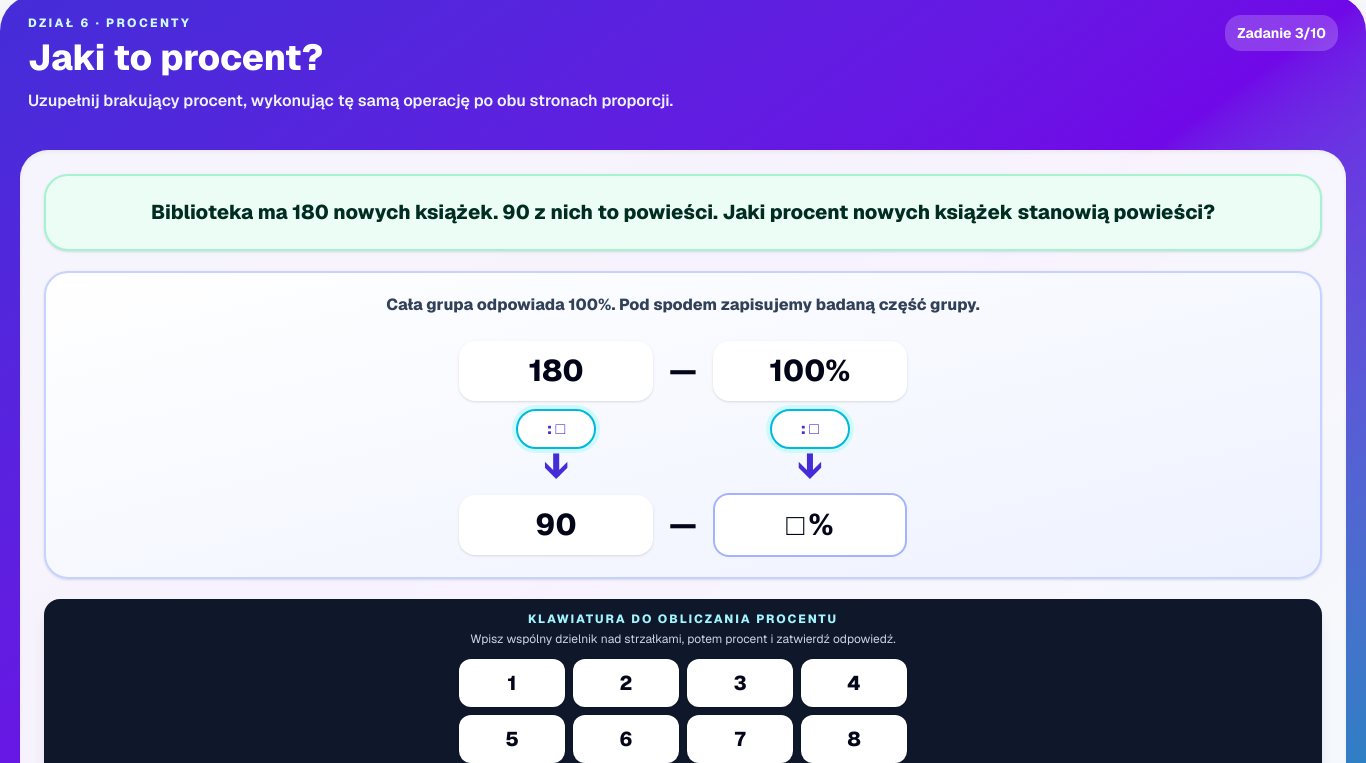
Jaki to procent? metodą proporcji › od trzeciego zadania pozostawia dzielnik nad strzałkami do samodzielnego wpisania
Expected: the text ": 2" is not shown
Expected: the number of buttons ": □" is 2, [516, 408, 596, 448]; [770, 408, 850, 448]
Click the button "2": (626, 682) [573, 658, 679, 706]
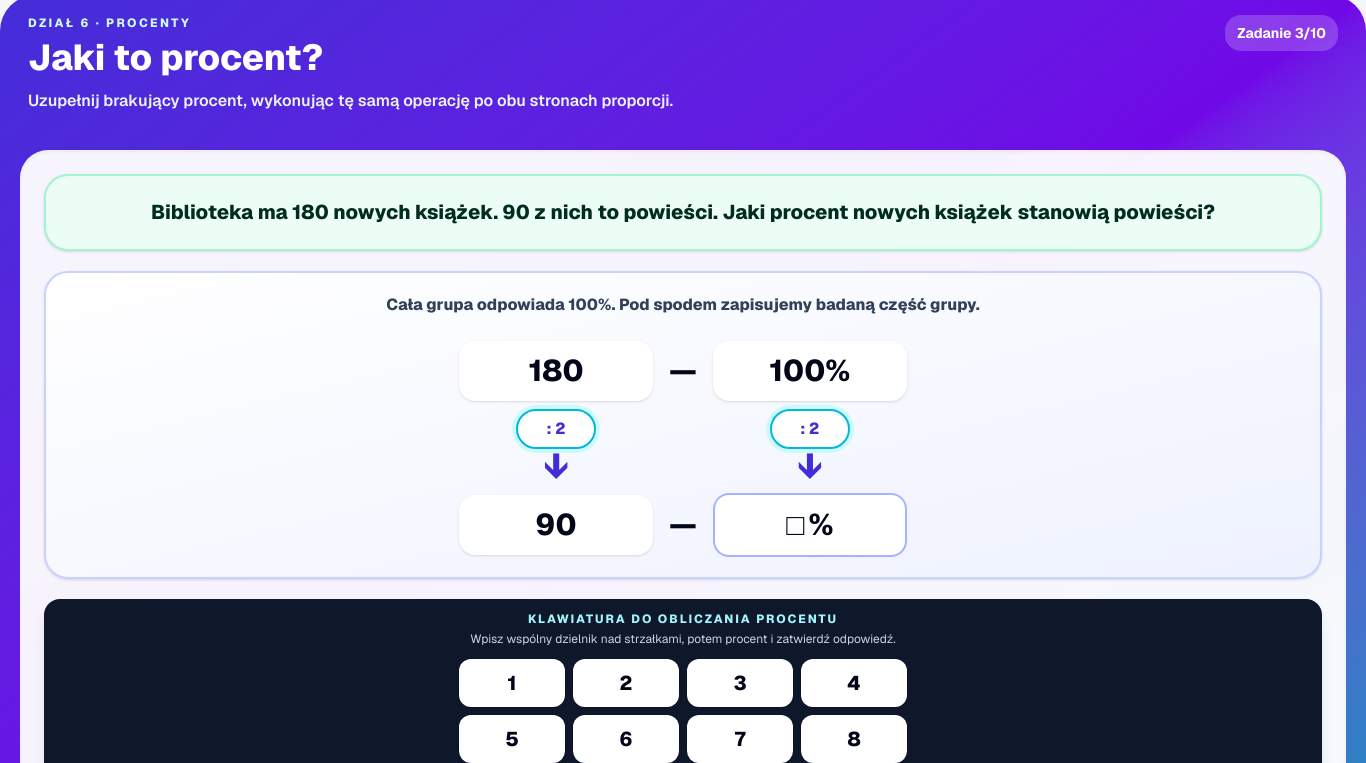
Expected: the number of buttons ": 2" is 2, [516, 408, 596, 448]; [770, 408, 850, 448]
Click the button named "Brakujący procent": (810, 524) [713, 492, 907, 556]
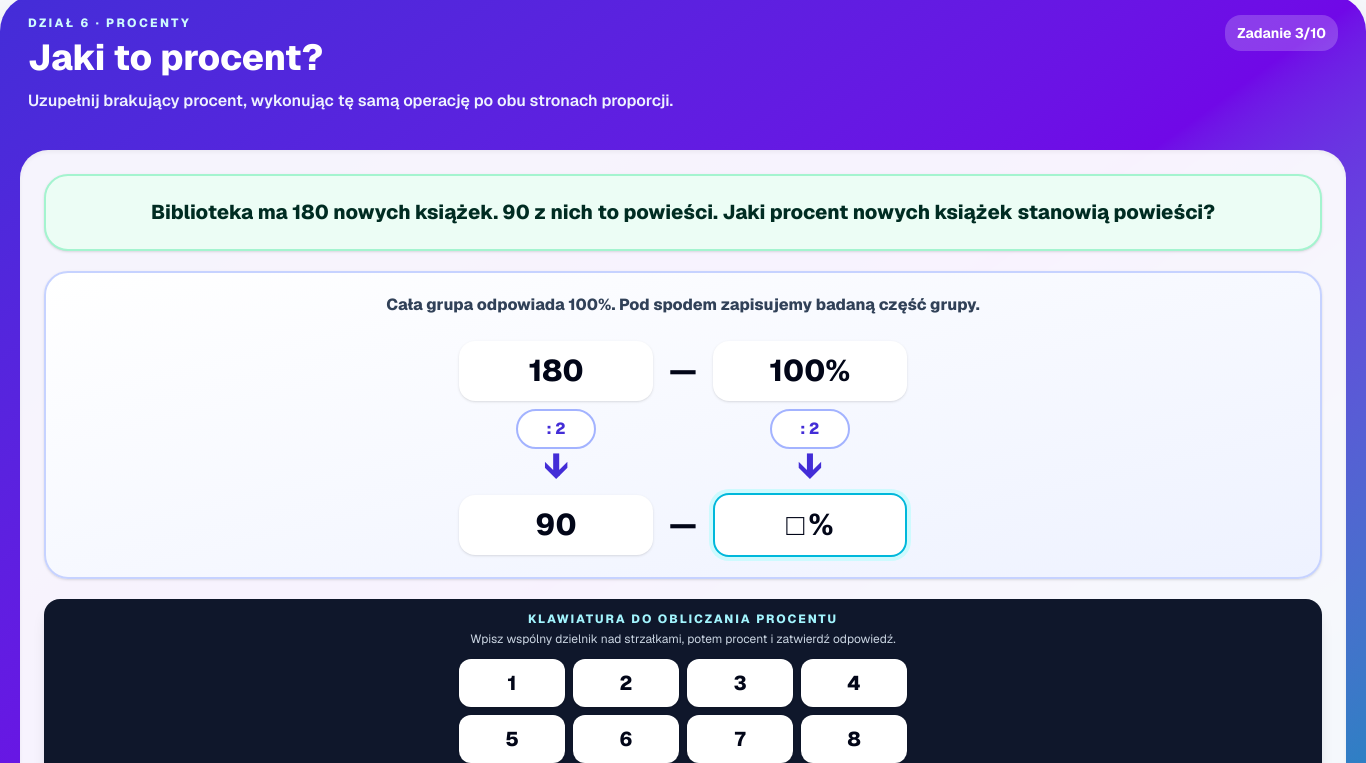
Click the button "5": (512, 738) [459, 714, 565, 762]
(page scrolled)
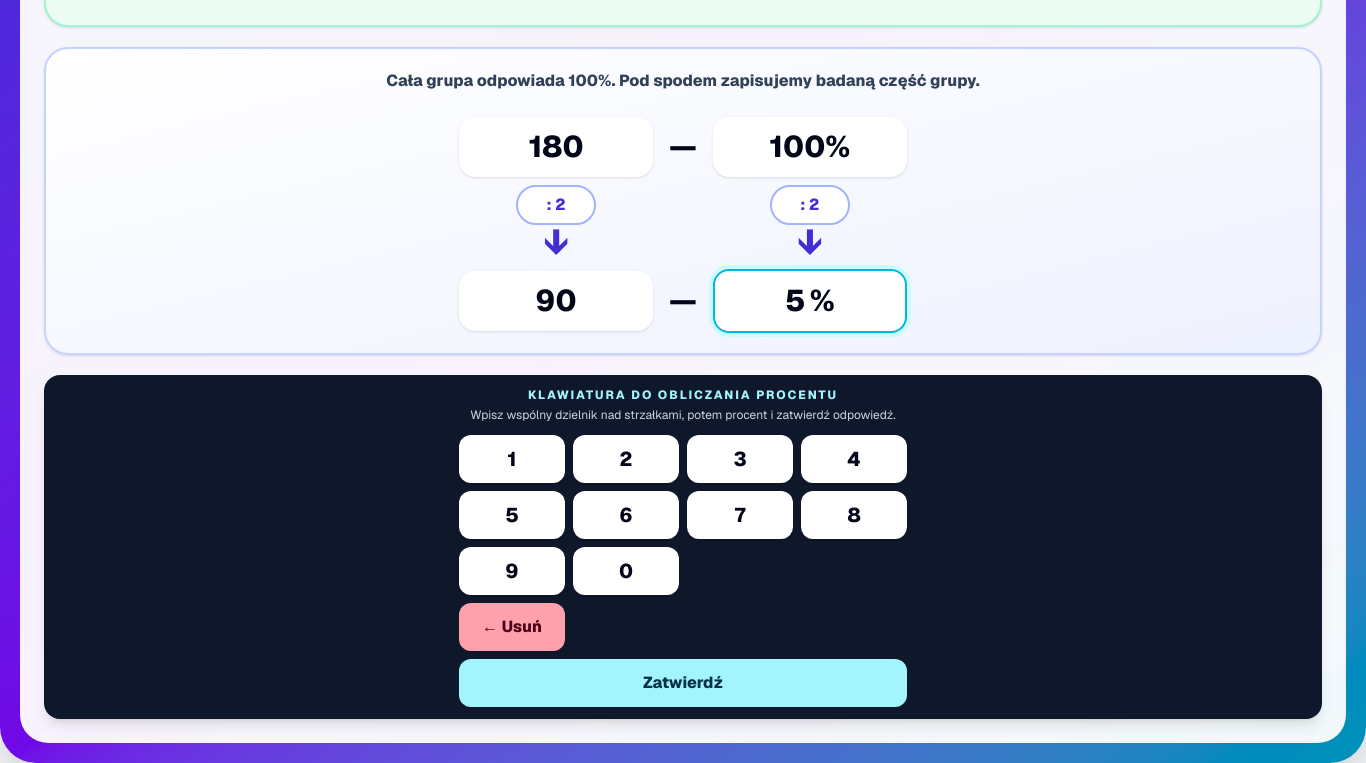
Click the button "0": (626, 570) [573, 546, 679, 594]
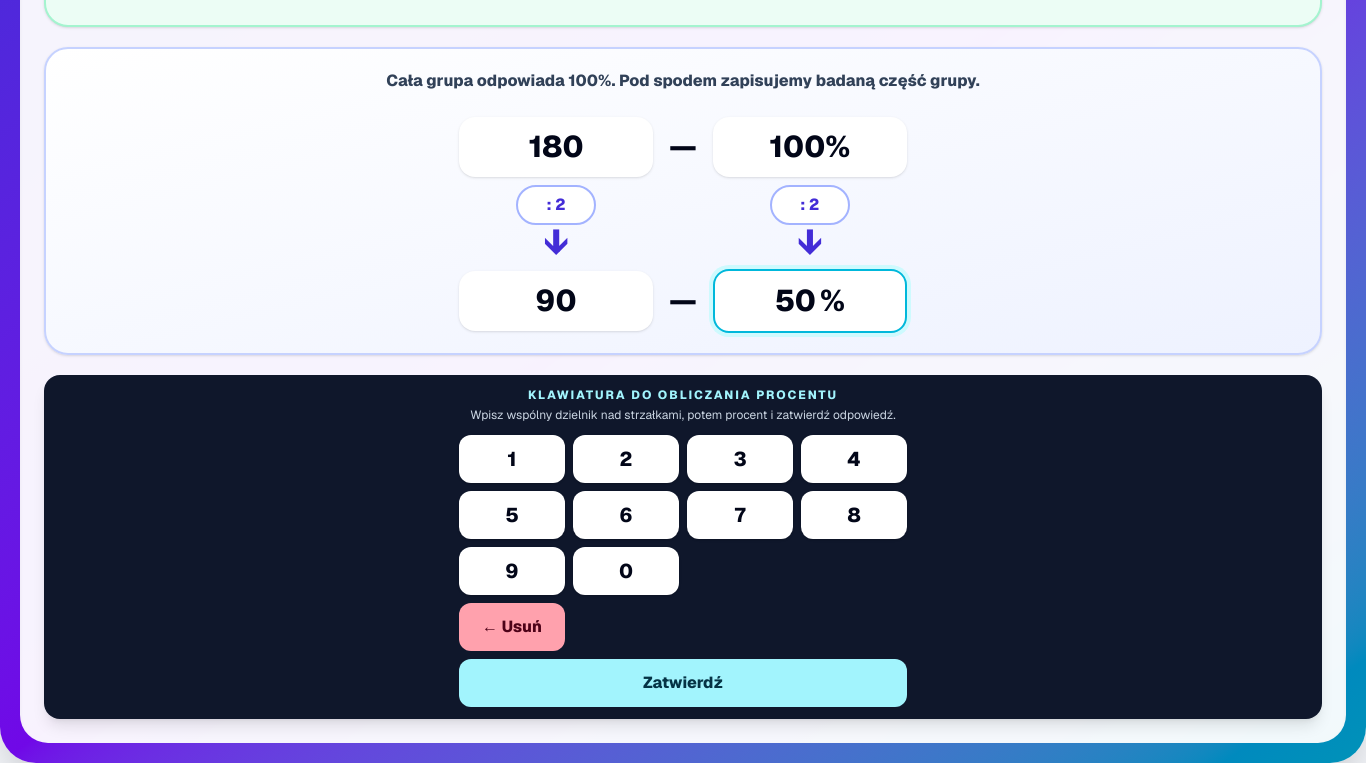
Click the button "Zatwierdź": (683, 682) [459, 658, 907, 706]
(page scrolled)
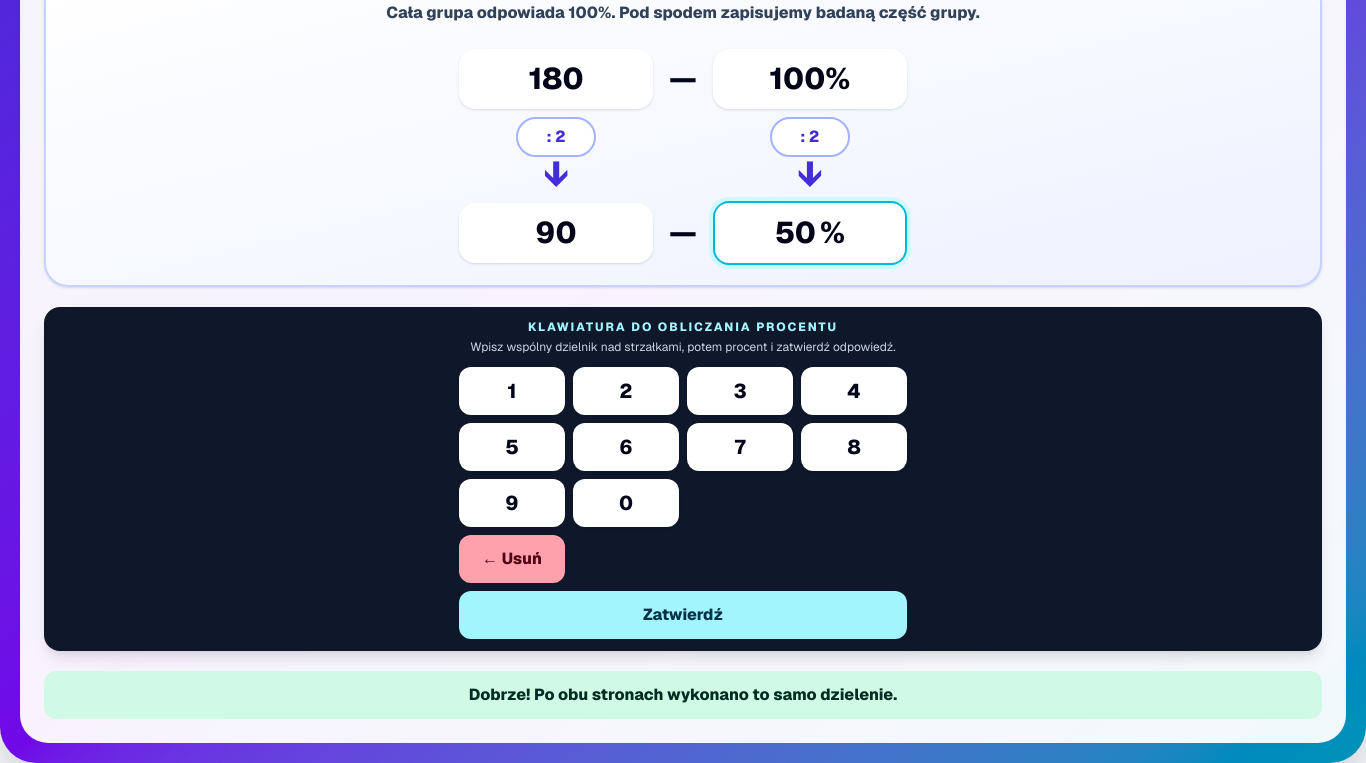
Result: the message shows "Dobrze" at [469, 684, 897, 704]
